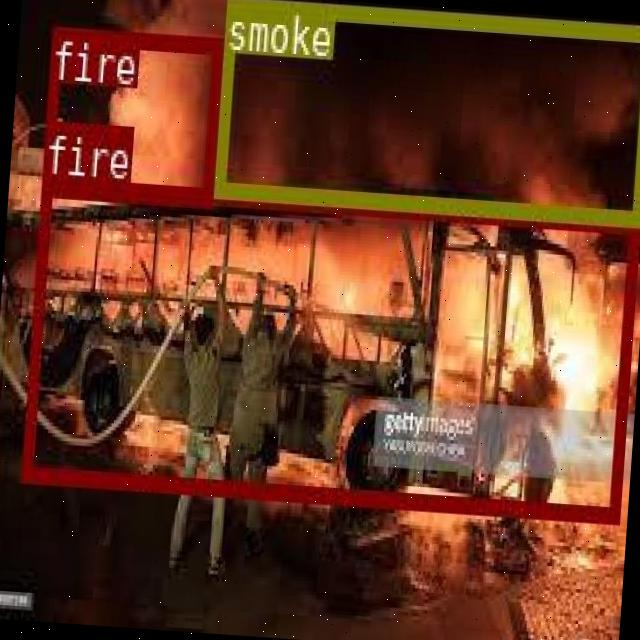fire: (19, 174, 636, 519), (41, 24, 220, 203)
smoke: (212, 0, 640, 222)
